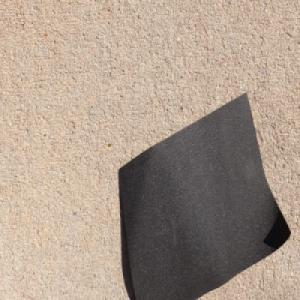PaintChip: (117, 91, 292, 300)
